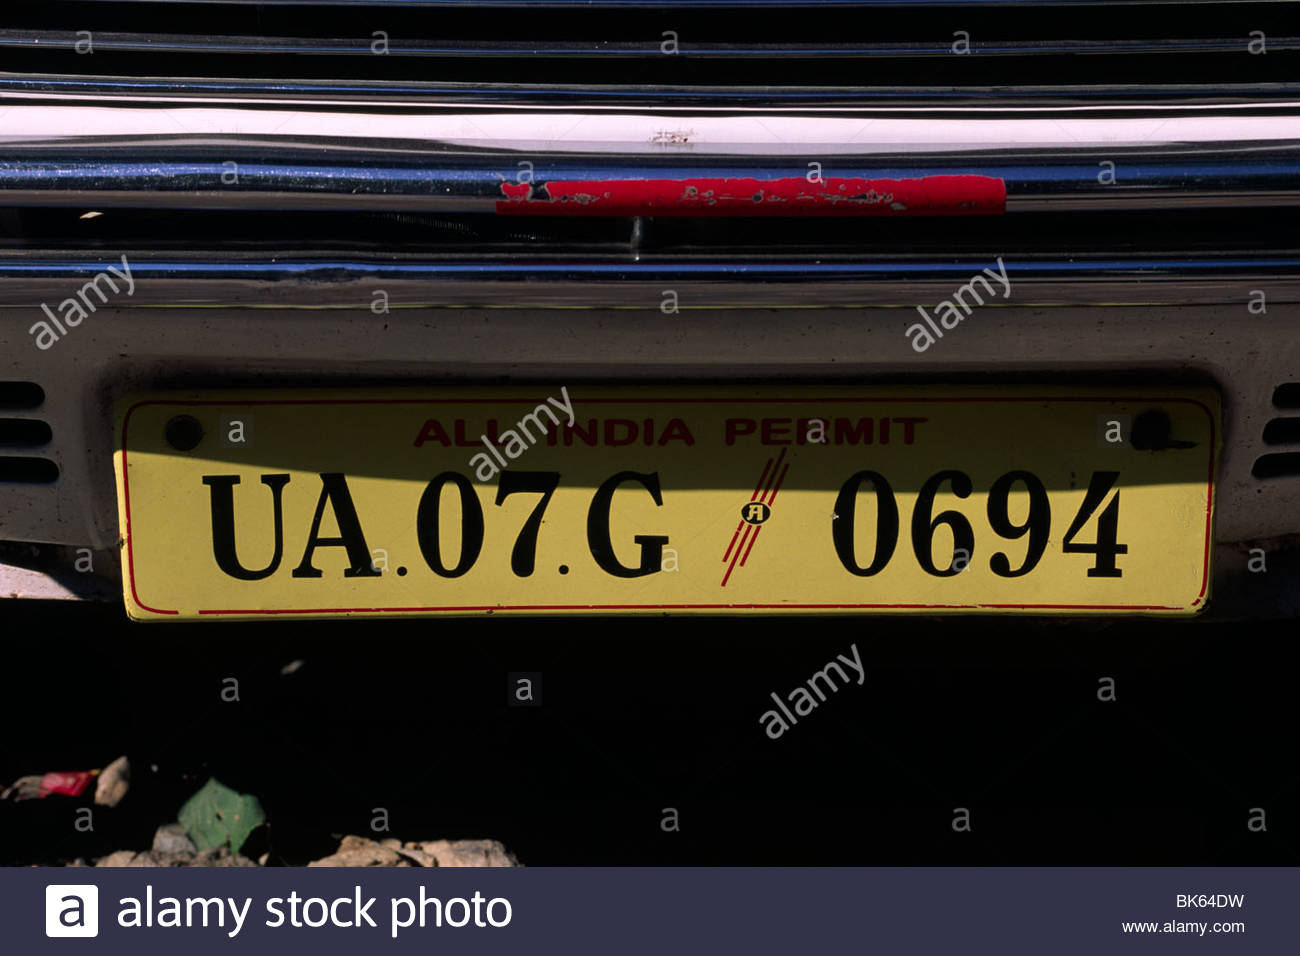number_plate: (97, 426, 1231, 626)
